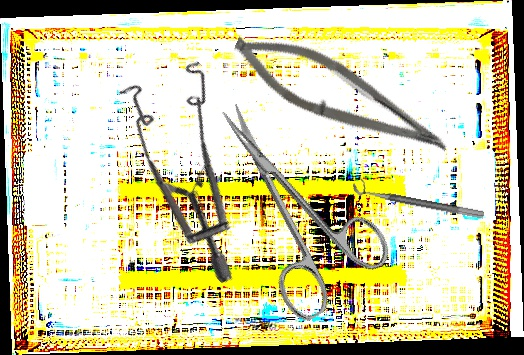Fixation Ring: (351, 174, 487, 220)
Iris Scissors: (181, 74, 402, 327)
Micro Scissor: (222, 19, 462, 169)
Speculum: (73, 35, 325, 288)
